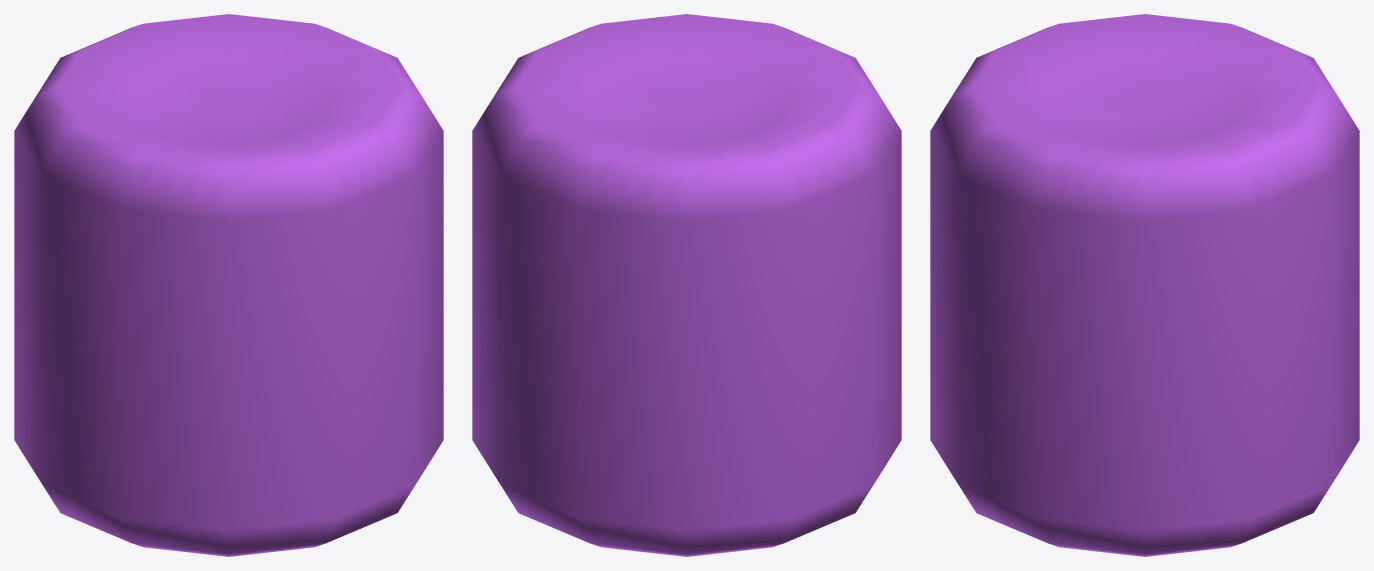
The model's file is lana04.fbx.
3 renders of one model, left to right at view 1: azimuth 30°, elevation 25°; view 2: azimuth 150°, elevation 25°; view 3: azimuth 270°, elevation 25°, orthographic.
Parts seen in each view (by area): view 1: Lana02; view 2: Lana02; view 3: Lana02.
Boxes of the visible parts, bbox=[...] form: Lana02: bbox=[14, 14, 443, 556]; Lana02: bbox=[472, 14, 901, 556]; Lana02: bbox=[930, 14, 1359, 556].
Bounding box in the file's own units: 0.1206 × 0.1233 × 0.1206.
